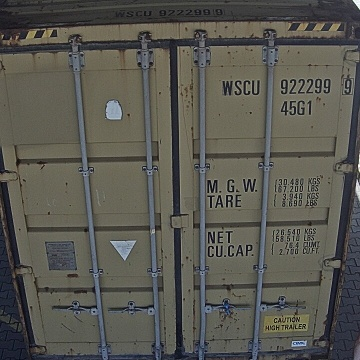serial_id: (223, 77, 353, 95)
